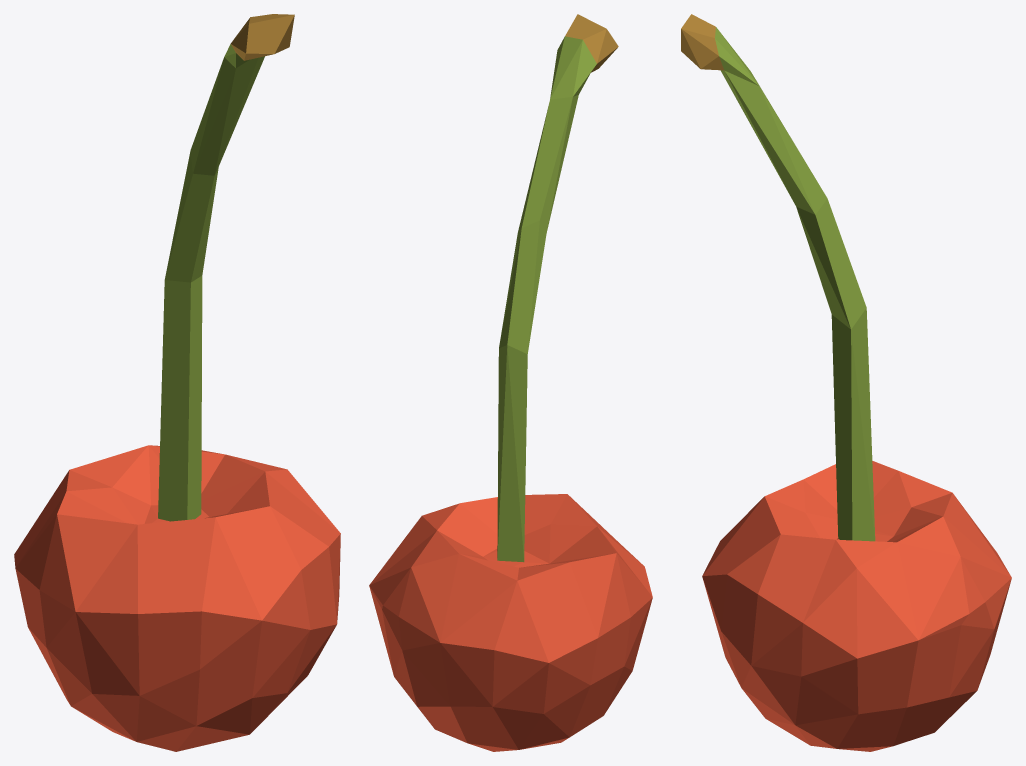
File: cherry.fbx
3 renders of one model, left to right at view 1: azimuth 30°, elevation 25°; view 2: azimuth 150°, elevation 25°; view 3: azimuth 270°, elevation 25°, orthographic. The views are drawn at different scales.
Visible parts, largest first — view 1: Sphere; view 2: Sphere; view 3: Sphere.
Boxes of the visible parts, x1,y1,x2,y2 form: Sphere: (14,14,340,751); Sphere: (369,14,652,751); Sphere: (681,14,1011,751).
Bounding box in the file's own units: 44.55 × 115 × 48.02.
